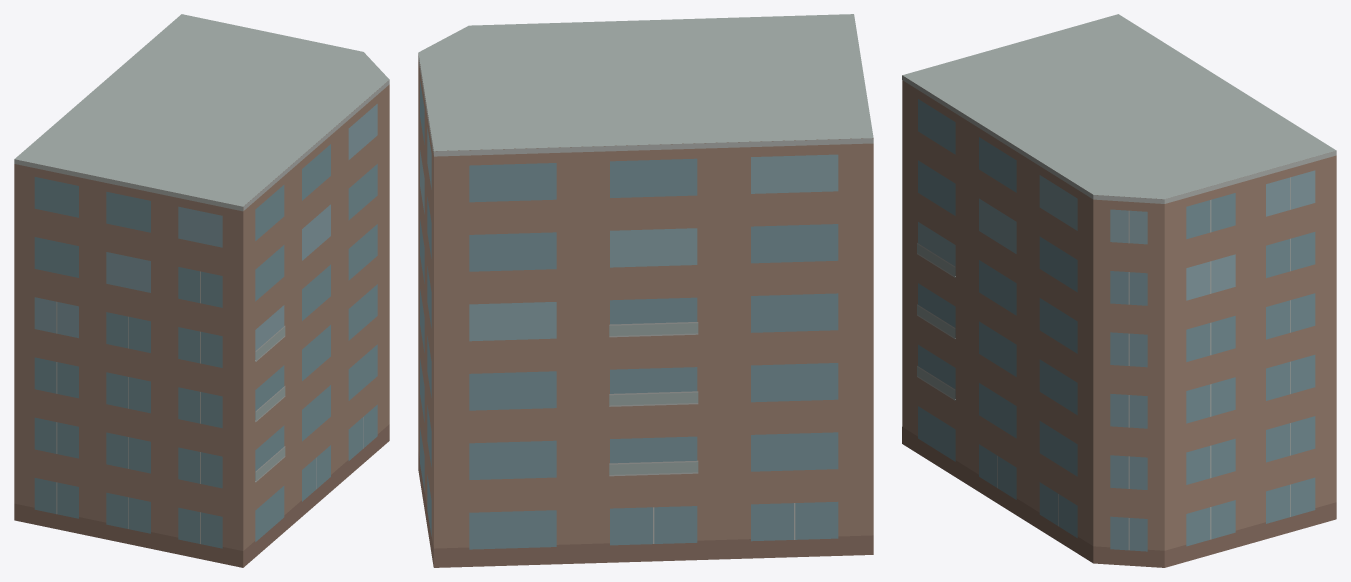
File: survey-upis-32846092.glb
3 renders of one model, left to right at view 1: azimuth 30°, elevation 25°; view 2: azimuth 150°, elevation 25°; view 3: azimuth 270°, elevation 25°, orthographic. The views are drawn at different scales.
Visible parts, largest first — view 1: survey-upis-32846092.tmp; view 2: survey-upis-32846092.tmp; view 3: survey-upis-32846092.tmp.
Part boxes in pixels (box(x1,y1,x2,y2)): survey-upis-32846092.tmp: box(14, 14, 389, 567); survey-upis-32846092.tmp: box(418, 14, 873, 567); survey-upis-32846092.tmp: box(902, 14, 1336, 567).
Size of the model in its own units: 20.27 by 18.8 by 20.09.
